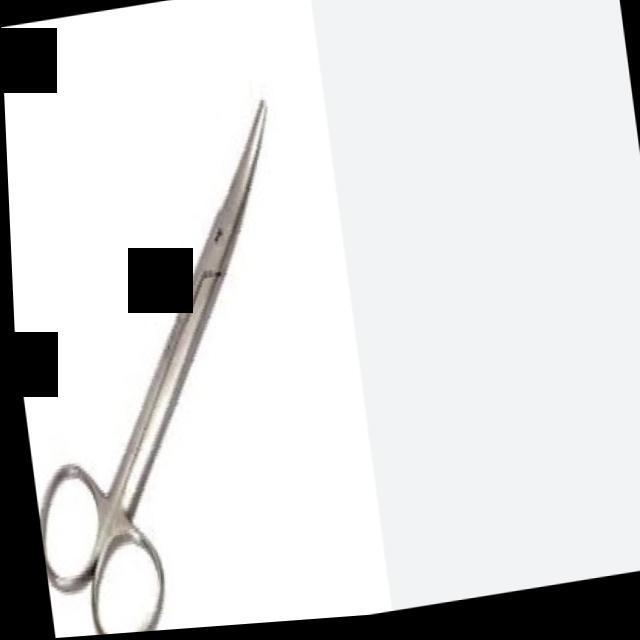Curved Mayo: (4, 84, 332, 640)
